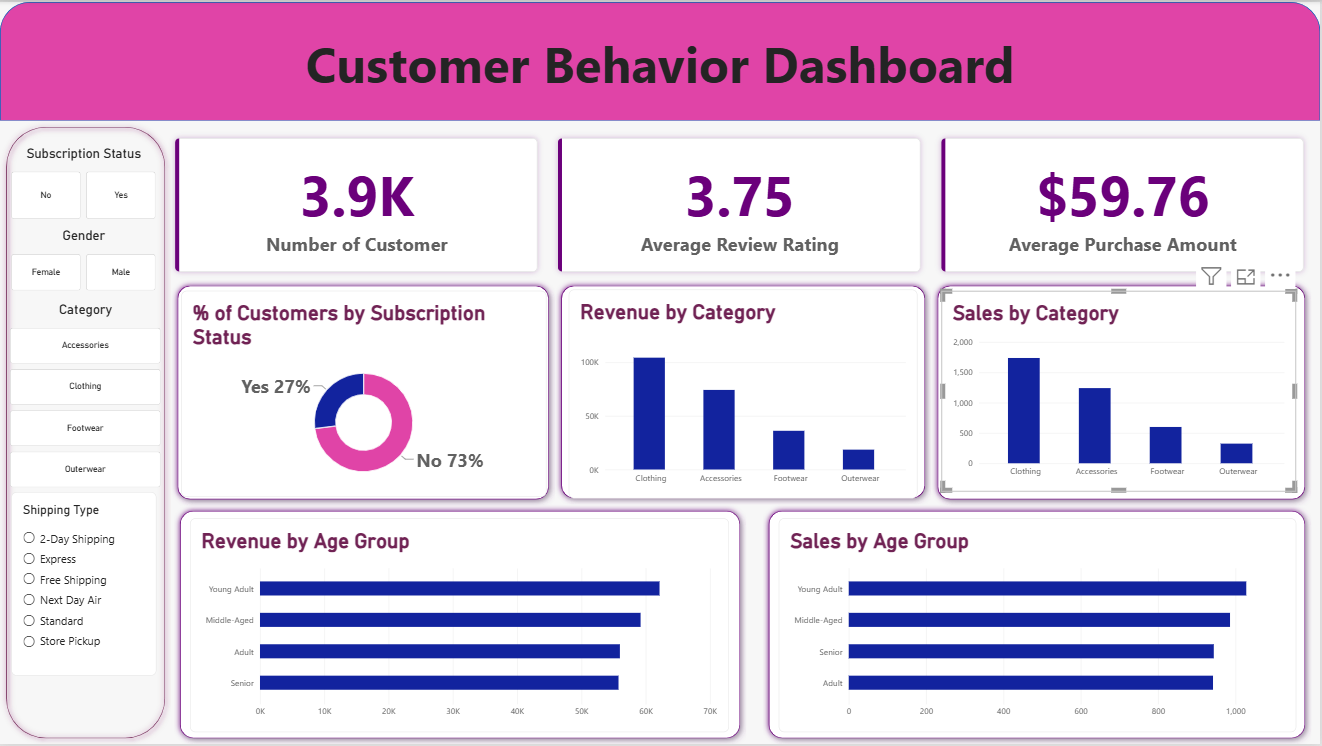

Layout of this report page (visuals, bound fields, positions):
{"tool":"powerbi","page":{"name":"Page 1","canvas":[1920,1080],"ordinal":0},"visuals":[{"type":"cardVisual","fields":{"Data":["customer_behavior customer.Number of Customer","customer_behavior customer.Average Review Rating","customer_behavior customer.Average Purchase Amount"]},"box":[243.6,187.3,1663.6,216.4],"z":0},{"type":"shape","box":[0,0,1920.4,172.9],"z":1000},{"type":"textbox","box":[0,39.1,1920.4,98.8],"z":2000},{"type":"shape","box":[249.1,403.6,558.2,329.1],"z":3000},{"type":"donutChart","title":"% of Customers by Subscription Status","fields":{"Category":["customer_behavior customer.subscription_status"],"Y":["CountNonNull(customer_behavior customer.customer_id)"]},"box":[263.6,420,530.9,300],"z":4000},{"type":"shape","box":[807.3,403.6,547.3,327.3],"z":5000},{"type":"shape","box":[1354.5,403.6,552.7,329.1],"z":6000},{"type":"clusteredColumnChart","title":"Revenue by Category","fields":{"Category":["customer_behavior customer.category"],"Y":["Sum(customer_behavior customer.purchase_amount)"]},"box":[827.3,418.2,507.3,303.6],"z":7000},{"type":"shape","box":[0,172.7,249.1,907.3],"z":9000},{"type":"clusteredColumnChart","title":"Sales by Category","fields":{"Category":["customer_behavior customer.category"],"Y":["CountNonNull(customer_behavior customer.customer_id)"]},"box":[1369.1,420,516.4,292.7],"z":9500},{"type":"advancedSlicerVisual","title":"Subscription Status","fields":{"Values":["customer_behavior customer.subscription_status"]},"box":[16.4,209.1,210.9,107.3],"z":10000},{"type":"advancedSlicerVisual","title":"Gender","fields":{"Values":["customer_behavior customer.gender"]},"box":[16.4,329.1,210.9,90.9],"z":11000},{"type":"advancedSlicerVisual","title":"Category","fields":{"Values":["customer_behavior customer.category"]},"box":[14.5,436.4,220,270.9],"z":12000},{"type":"listSlicer","title":"Shipping Type","fields":{"Values":["customer_behavior customer.shipping_type"]},"box":[16.4,712.7,210.9,267.3],"z":13000},{"type":"shape","box":[252.7,730.9,832.7,349.1],"z":14000},{"type":"clusteredBarChart","title":"Revenue by Age Group","fields":{"Category":["customer_behavior customer.age_group"],"Y":["Sum(customer_behavior customer.purchase_amount)"]},"box":[276.4,750.9,783.6,310.9],"z":15000},{"type":"shape","box":[1109.1,730.9,798.2,349.1],"z":16000},{"type":"clusteredBarChart","title":"Sales by Age Group","fields":{"Category":["customer_behavior customer.age_group"],"Y":["CountNonNull(customer_behavior customer.customer_id)"]},"box":[1132.7,750.9,752.7,310.9],"z":17000}]}

Visuals, with their boxes in screenshot pixels (x1, y1, x2, y2), scaled from the page's 1920x1080 canvas onto the 1322x746 screenshot:
cardVisual - customer_behavior customer.Number of Customer x customer_behavior customer.Average Review Rating: (x1=168, y1=129, x2=1313, y2=279)
shape: (x1=0, y1=0, x2=1321, y2=119)
textbox: (x1=0, y1=27, x2=1321, y2=95)
shape: (x1=172, y1=279, x2=556, y2=506)
"% of Customers by Subscription Status" donutChart: (x1=181, y1=290, x2=547, y2=497)
shape: (x1=556, y1=279, x2=933, y2=505)
shape: (x1=933, y1=279, x2=1313, y2=506)
"Revenue by Category" clusteredColumnChart: (x1=570, y1=289, x2=919, y2=499)
shape: (x1=0, y1=119, x2=172, y2=745)
"Sales by Category" clusteredColumnChart: (x1=943, y1=290, x2=1298, y2=492)
"Subscription Status" advancedSlicerVisual: (x1=11, y1=144, x2=157, y2=219)
"Gender" advancedSlicerVisual: (x1=11, y1=227, x2=157, y2=290)
"Category" advancedSlicerVisual: (x1=10, y1=301, x2=161, y2=489)
"Shipping Type" listSlicer: (x1=11, y1=492, x2=157, y2=677)
shape: (x1=174, y1=505, x2=747, y2=745)
"Revenue by Age Group" clusteredBarChart: (x1=190, y1=519, x2=730, y2=733)
shape: (x1=764, y1=505, x2=1313, y2=745)
"Sales by Age Group" clusteredBarChart: (x1=780, y1=519, x2=1298, y2=733)
